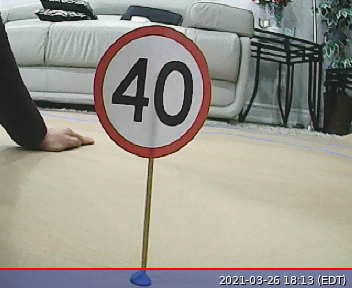Speed Limit 40: (92, 25, 212, 158)
